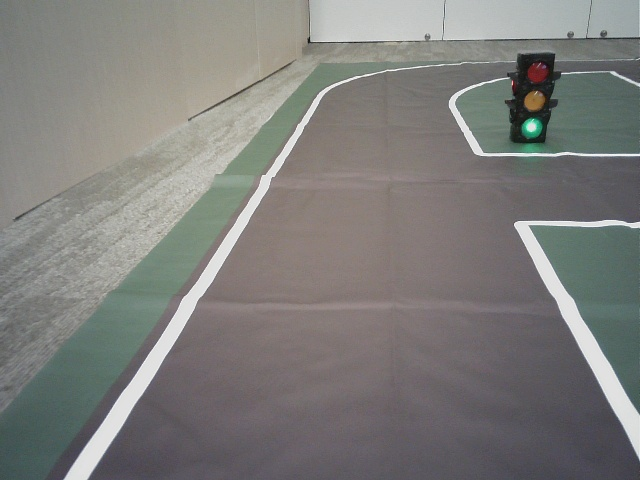green: (518, 56, 549, 139)
